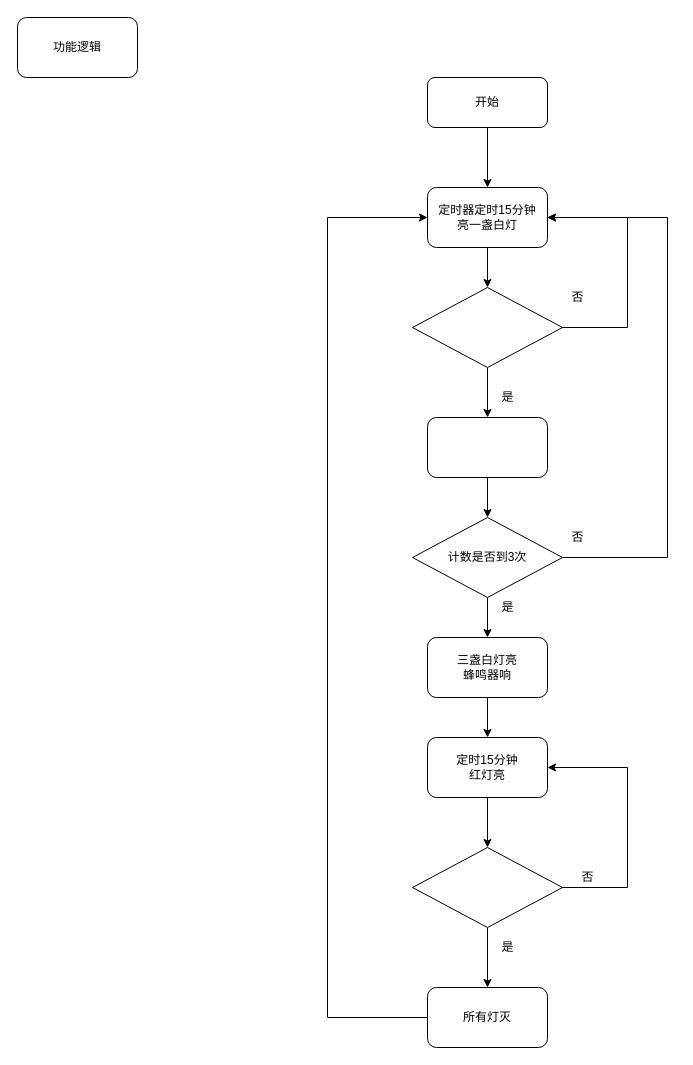
This 693x1065 diagram has some shape labels left out. The box of each missing label's shape, as (x1, y1, x2, y2) in pixels:
定时时间到否: (412, 286, 562, 368)
定时是否到: (412, 846, 562, 928)
计数加1 白灯加一（共计三盏: (426, 416, 548, 478)
